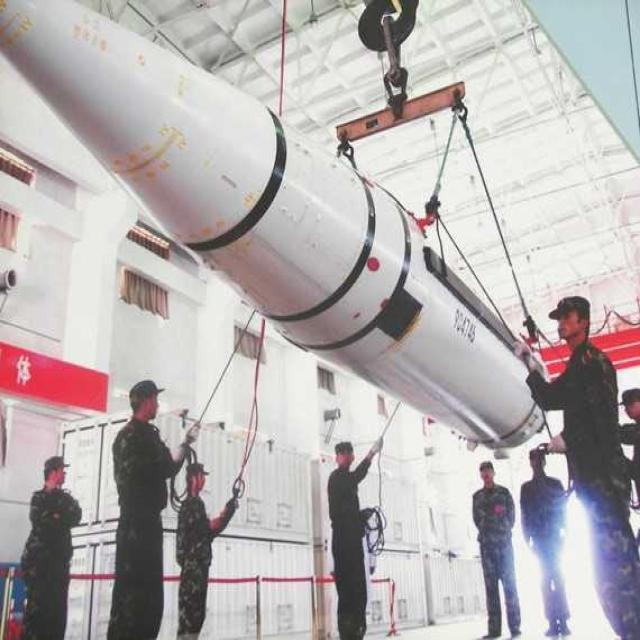missile: (1, 0, 550, 442)
